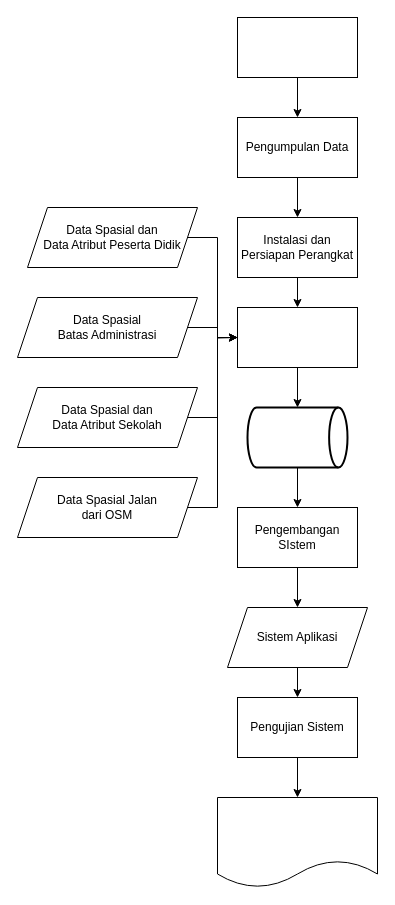
This 395x905 diagram has some shape labels left out. Here are the shapes that lost their labels. From the top down, the centre of each, then its label:
the point at 297,47: Studi Literatur
the point at 297,337: Pembuatan Basis Data
the point at 297,437: Basis Data
the point at 297,842: Dokumen Sekolah Beserta Peserta Didik Sesuai Hasil Perataan Sistem
